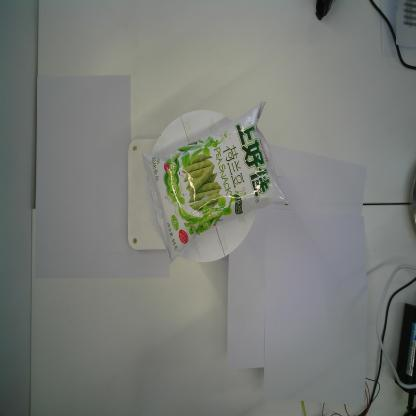Puffed Food: (141, 100, 291, 265)
